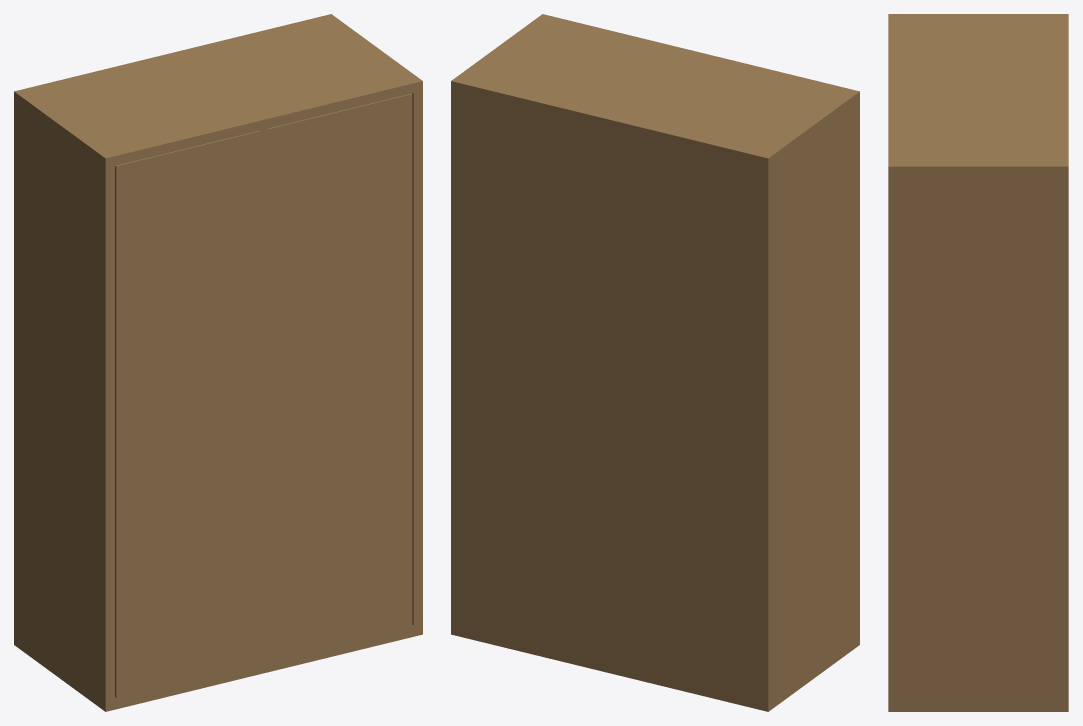
The model's file is wardrobe.glb.
3 renders of one model, left to right at view 1: azimuth 30°, elevation 25°; view 2: azimuth 150°, elevation 25°; view 3: azimuth 270°, elevation 25°, orthographic.
Size of the model in its own units: 1.2 by 2 by 0.6.
